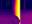Hotspot: (15, 0, 20, 20)
